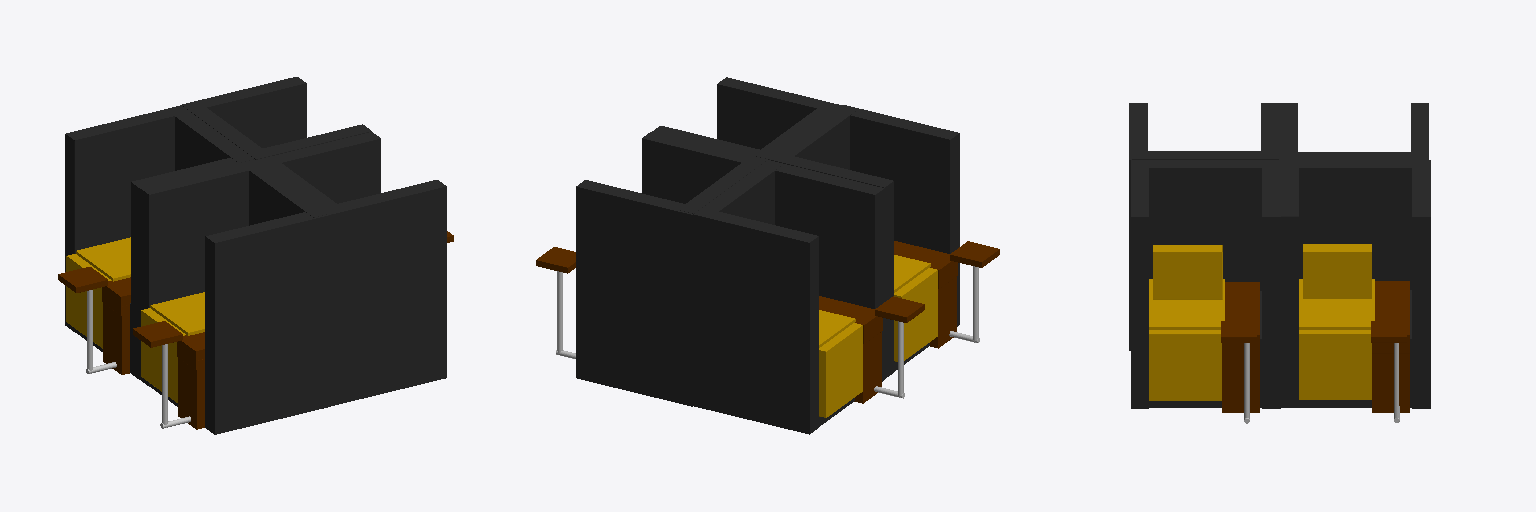
The model's file is cubicCouch.obj.
The picture shows the model from 3 angles: view 1: azimuth 30°, elevation 25°; view 2: azimuth 150°, elevation 25°; view 3: azimuth 270°, elevation 25°; orthographic projection.
Parts seen in each view (by area): view 1: Cylinder.002_greyish, Cylinder.002_NORMAL, Cylinder.002_DIFcOUCH, Cylinder.002_Material.001; view 2: Cylinder.002_greyish, Cylinder.002_DIFcOUCH, Cylinder.002_NORMAL, Cylinder.002_Material.001; view 3: Cylinder.002_greyish, Cylinder.002_DIFcOUCH, Cylinder.002_NORMAL, Cylinder.002_Material.001.
Boxes of the visible parts, x1,y1,x2,y2 form: Cylinder.002_greyish: [65, 77, 446, 434]; Cylinder.002_NORMAL: [58, 231, 453, 429]; Cylinder.002_DIFcOUCH: [66, 237, 204, 402]; Cylinder.002_Material.001: [86, 290, 190, 428]; Cylinder.002_greyish: [576, 77, 959, 434]; Cylinder.002_DIFcOUCH: [819, 255, 937, 417]; Cylinder.002_NORMAL: [536, 241, 999, 403]; Cylinder.002_Material.001: [556, 266, 979, 398]; Cylinder.002_greyish: [1129, 103, 1430, 408]; Cylinder.002_DIFcOUCH: [1149, 244, 1374, 400]; Cylinder.002_NORMAL: [1221, 281, 1409, 412]; Cylinder.002_Material.001: [1244, 343, 1399, 423].
Size of the model in its own units: 6.75 by 3.7 by 5.22.